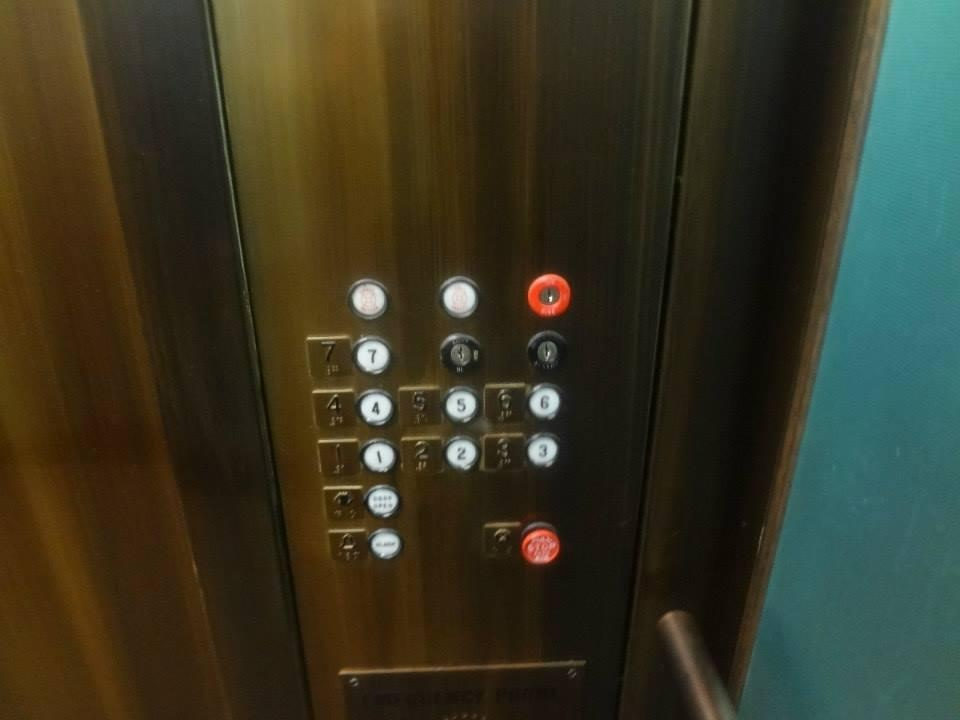1: (312, 435, 362, 479), (352, 436, 402, 480)
2: (395, 435, 445, 479), (436, 432, 486, 476)
3: (480, 431, 530, 475), (523, 431, 563, 473)
4: (309, 388, 359, 432), (353, 388, 397, 430)
5: (396, 386, 440, 428), (438, 385, 482, 427)
6: (481, 382, 528, 427), (524, 381, 565, 422)
7: (304, 333, 353, 381), (349, 335, 393, 377)
alarm: (324, 527, 368, 564)
blur: (362, 482, 403, 520), (365, 526, 406, 564)
keyhole: (524, 272, 572, 319), (435, 332, 483, 379), (523, 328, 571, 375)
light: (344, 276, 392, 323), (434, 274, 482, 321)
open: (321, 486, 365, 523)
stop: (481, 520, 523, 563)
text_stop: (518, 520, 562, 568)
